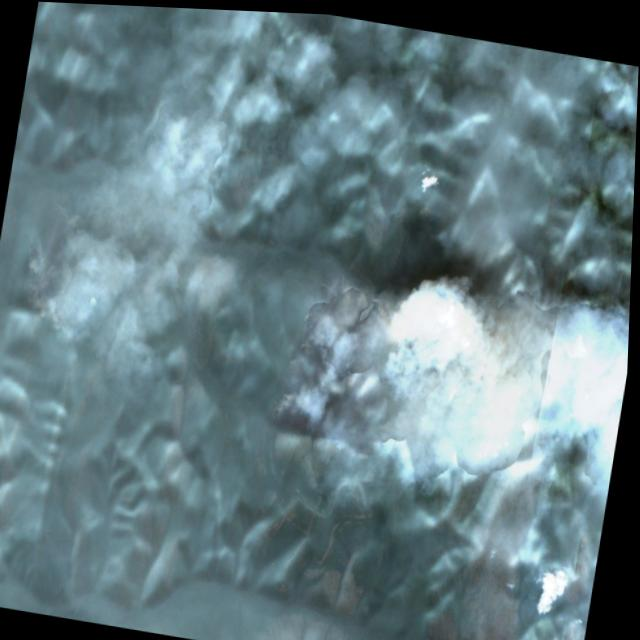fire: (260, 251, 419, 459), (15, 177, 89, 325)
